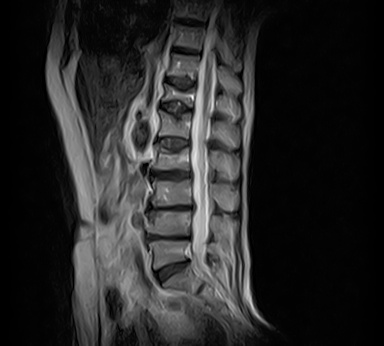L1,v2: (156, 115, 194, 137)
L1-L2,v5: (153, 134, 191, 156)
L2,v2: (153, 150, 191, 172)
L2-L3,v2: (152, 164, 190, 186)
L3,v2: (152, 183, 190, 205)
L3-L4,v3: (152, 198, 190, 220)
L4,v2: (150, 213, 188, 235)
L4-L5,v2: (150, 227, 188, 249)
L5,v2: (150, 241, 188, 263)
L5-S1,v3: (152, 259, 190, 281)
T12-L1,v5: (157, 97, 195, 119)
